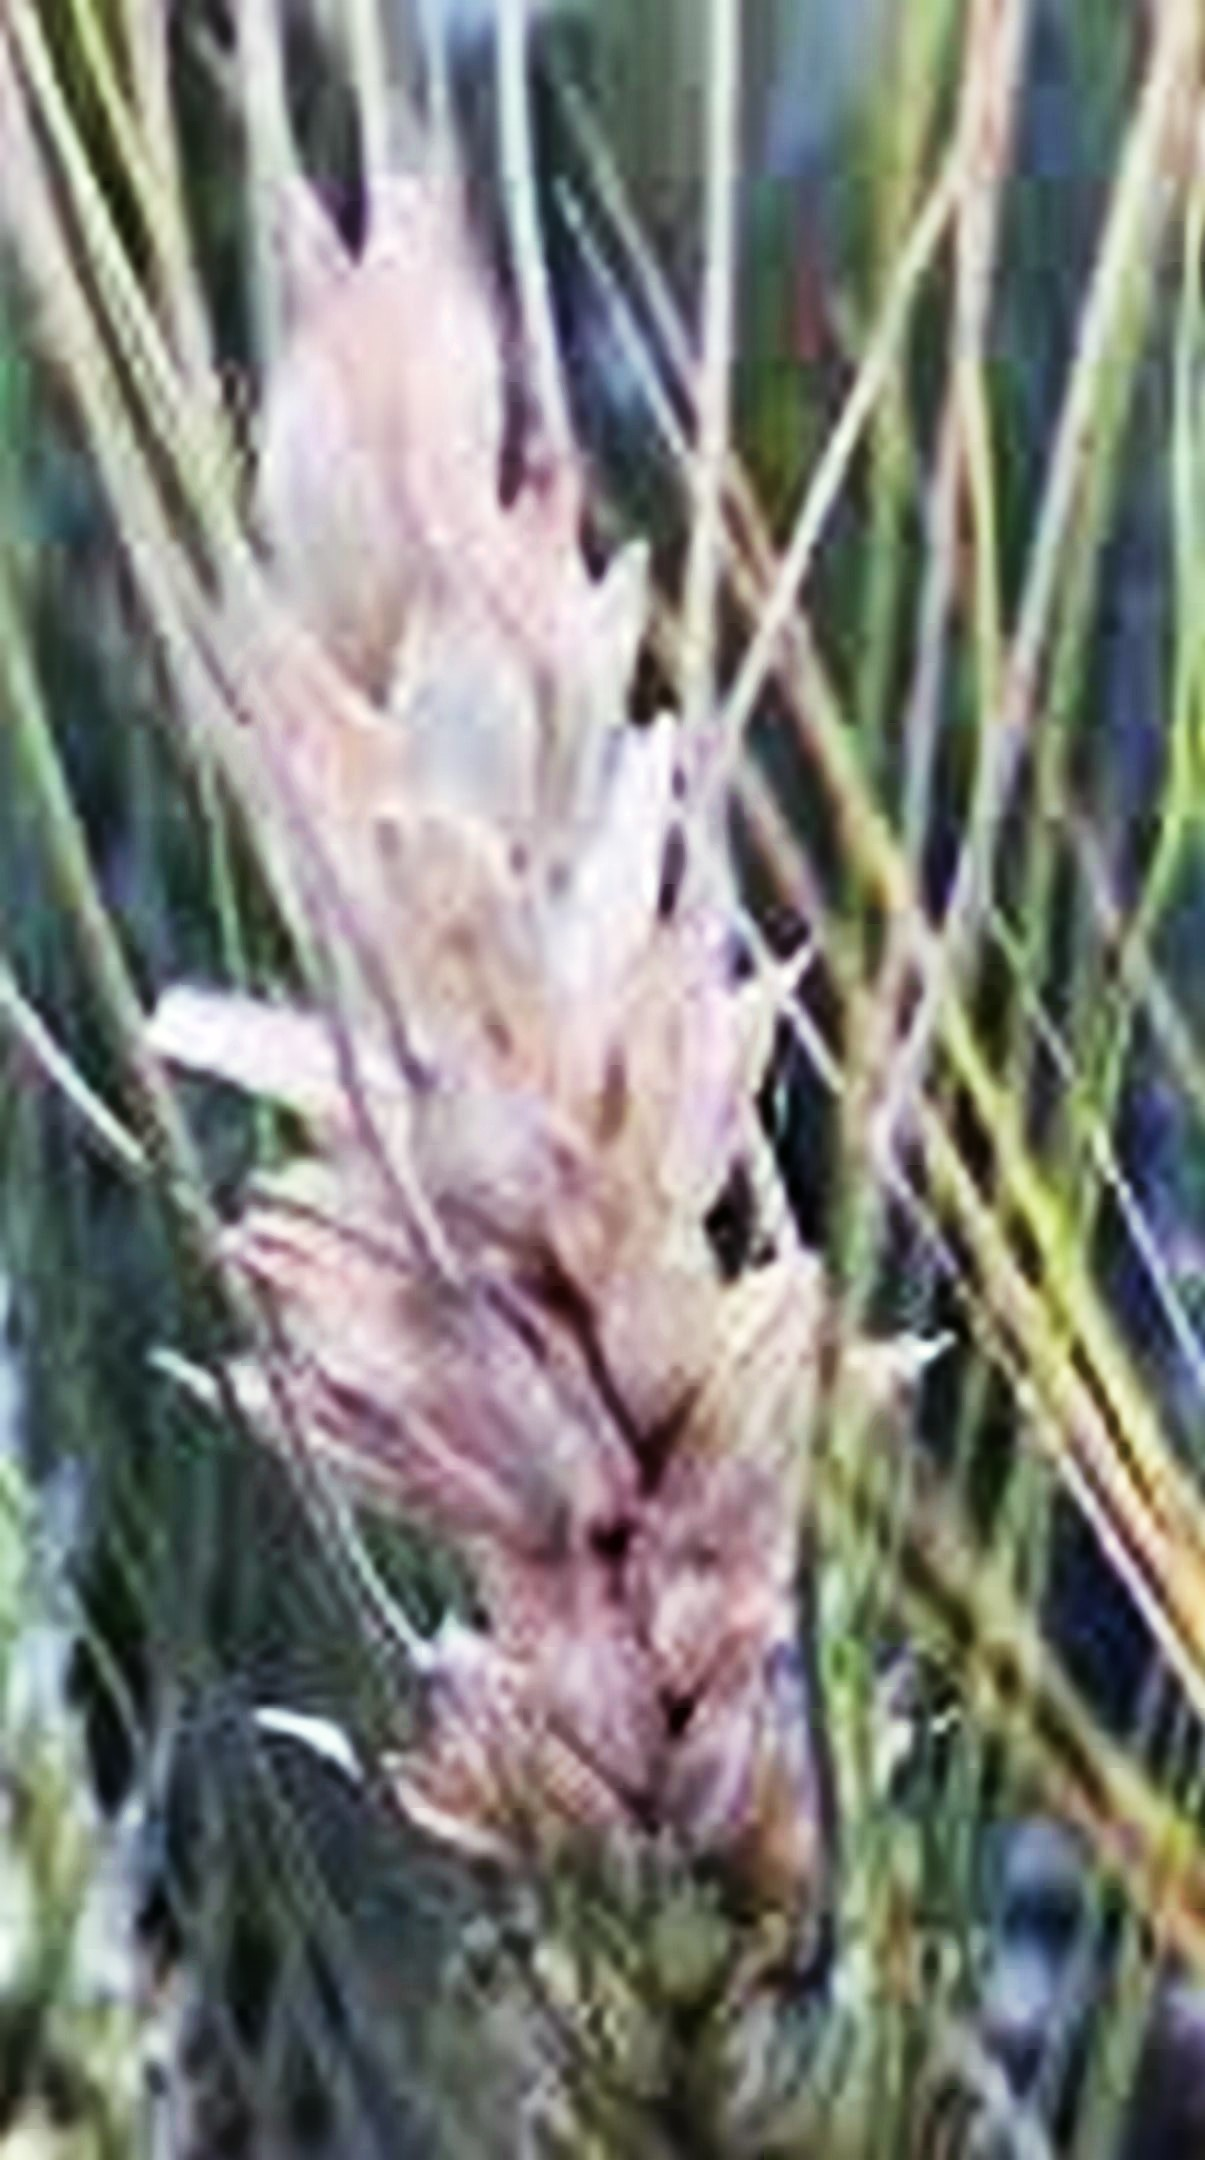Wheat scab: (137, 254, 973, 2145)
